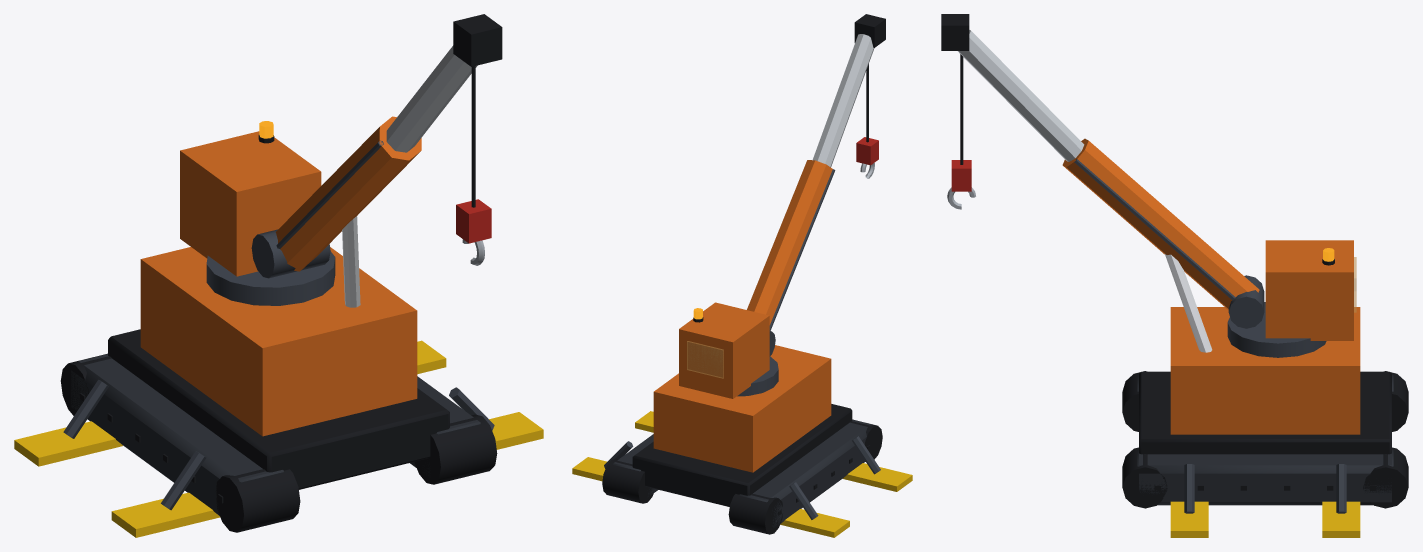
The model's file is loader_mobile_crane_arm.glb.
The picture shows the model from 3 angles, left to right: view 1: azimuth 30°, elevation 25°; view 2: azimuth 150°, elevation 25°; view 3: azimuth 270°, elevation 25°; orthographic projection. The views are drawn at different scales.
Visible parts, largest first — view 1: loader_mobile_crane_arm; view 2: loader_mobile_crane_arm; view 3: loader_mobile_crane_arm.
Part boxes in pixels (x1,y1,x2,y2): loader_mobile_crane_arm: (14, 14, 543, 537); loader_mobile_crane_arm: (572, 14, 912, 537); loader_mobile_crane_arm: (941, 14, 1408, 537).
Size of the model in its own units: 2.9 by 3.84 by 3.69.
